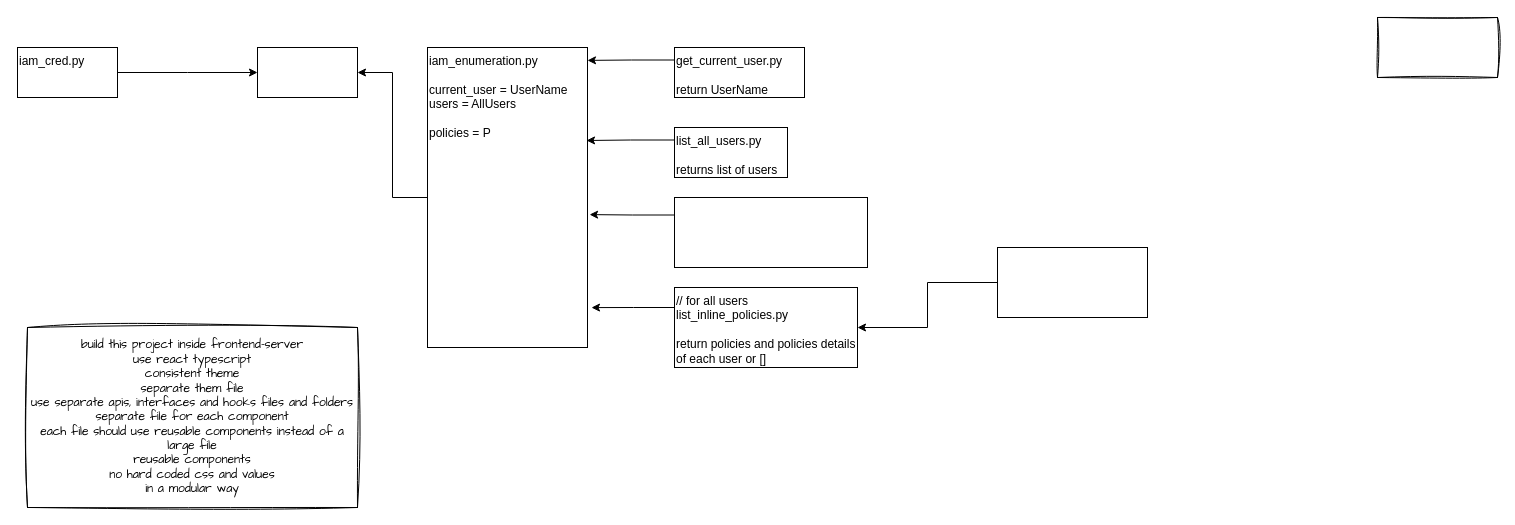
The diagram is 1515 pixels wide and 525 high, and some of its shapes have lost their labels. The centre of each missing label's shape, as x and y in pixels:
"// for all users list_attached_managed_policies.py return polices or []" goes at point 771,232.
"get_inline_policy_details.py return policy details with each user or []" goes at point 1072,282.
"main.py load credentials" goes at point 307,72.
